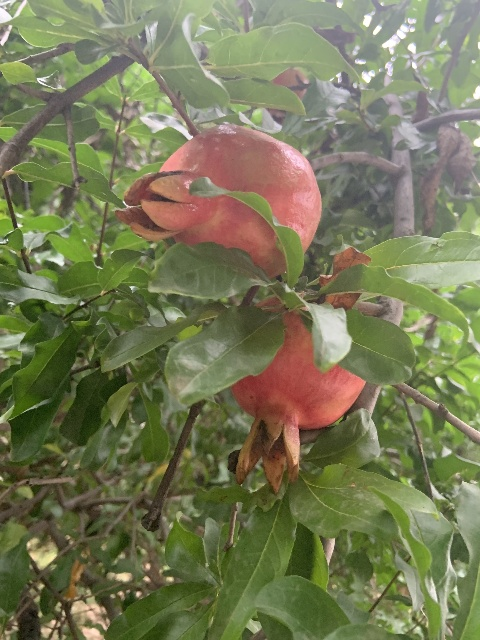ripe: (114, 125, 320, 278), (231, 297, 365, 493)
